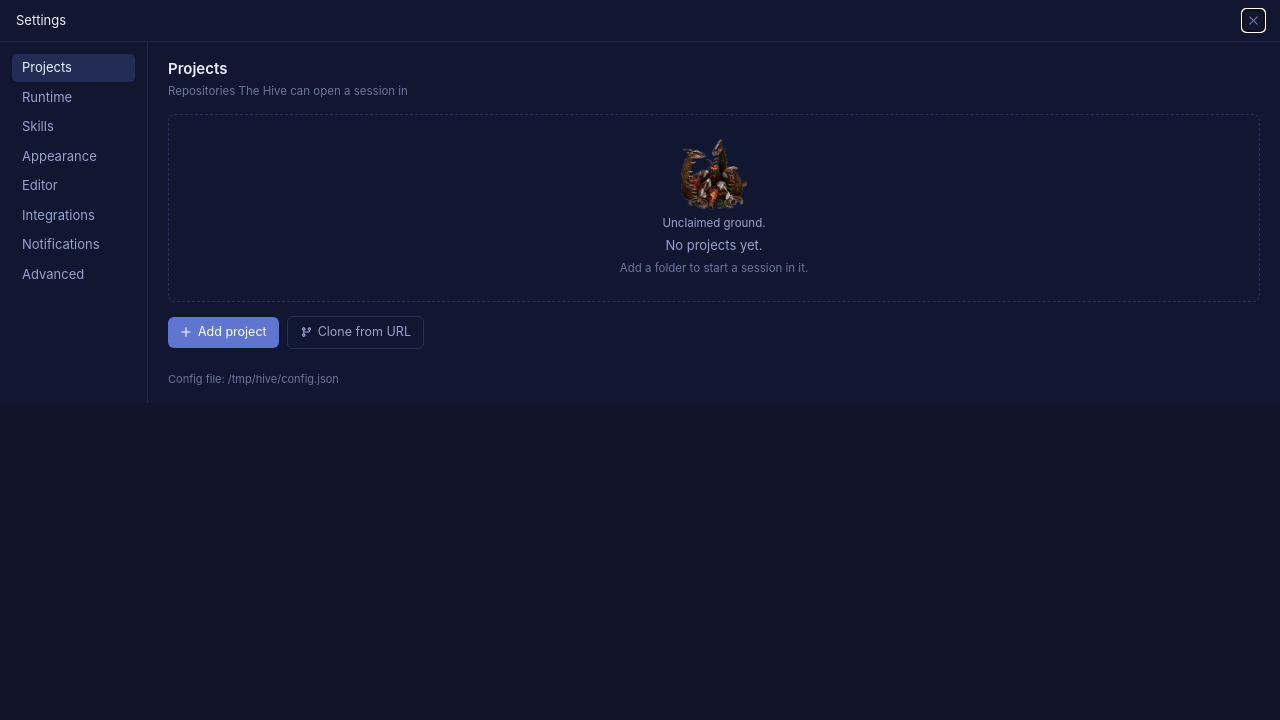
SettingsOverlay › opens on Projects and switches panes on click
Click the button "Appearance".
click(74, 156)  # box [12,142,135,170]
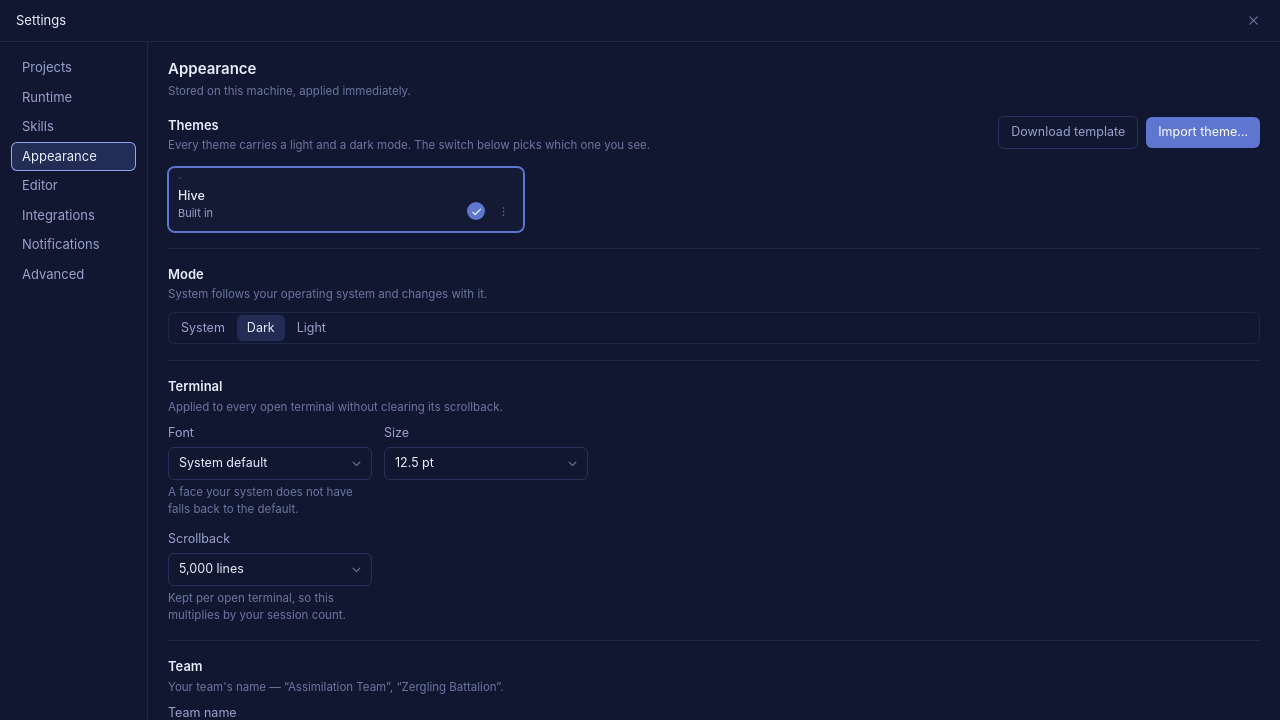
Check: the heading "Appearance" is shown, box [168,59,256,78]
Click the button "Projects".
click(74, 68)  # box [12,54,135,82]
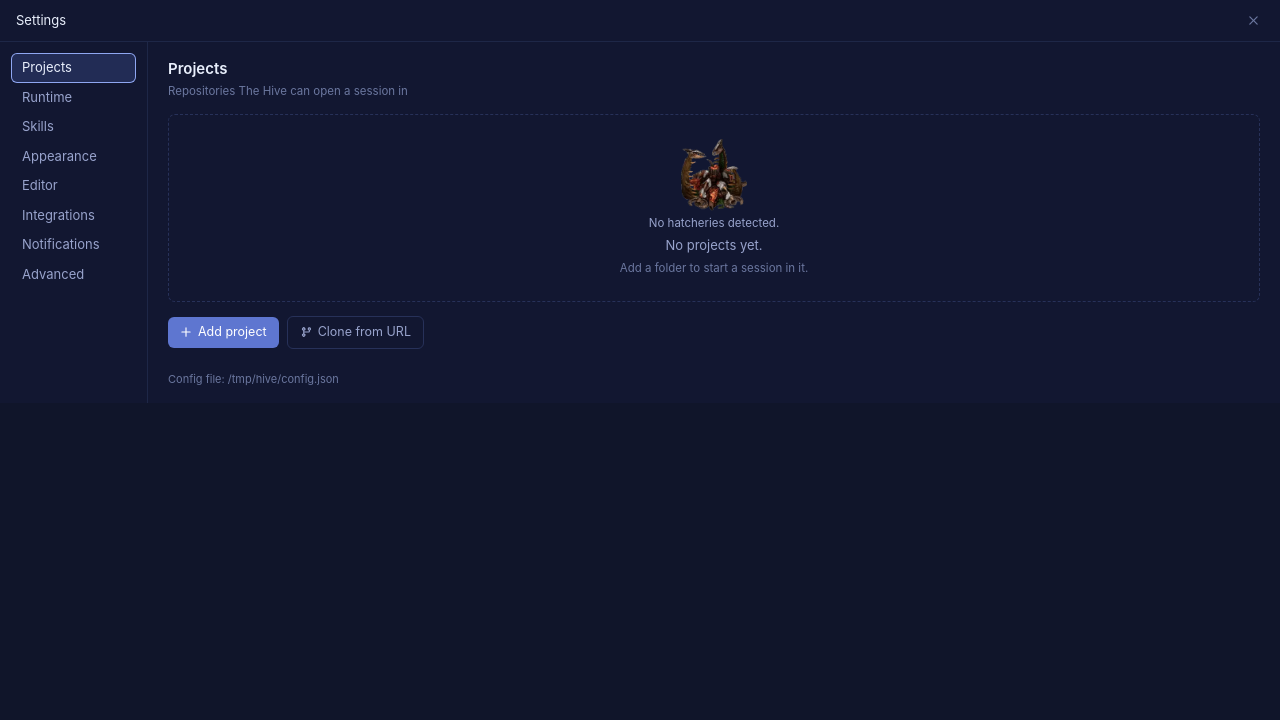
Check: the heading "Projects" is shown, box [168,59,227,78]
